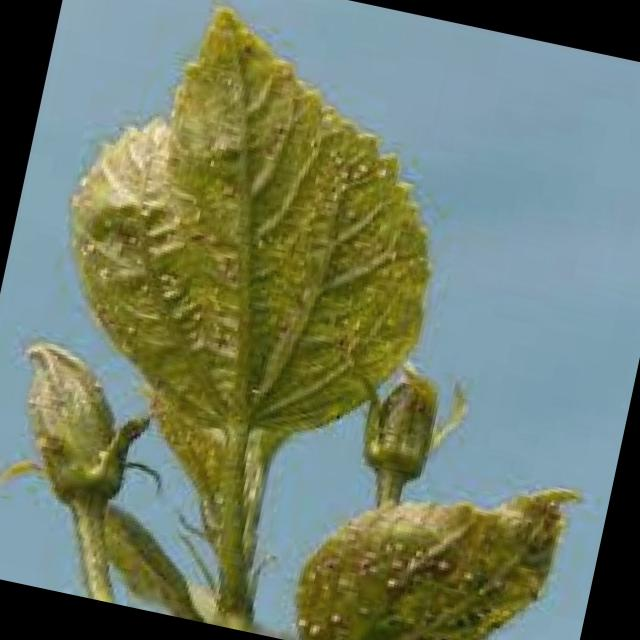aphid: (424, 546, 456, 576), (208, 171, 238, 200), (324, 566, 356, 593), (350, 540, 382, 566), (334, 195, 362, 223), (382, 528, 409, 556), (336, 156, 364, 183), (373, 566, 402, 592), (195, 220, 221, 248), (297, 613, 323, 640), (76, 230, 101, 256), (129, 272, 154, 298), (182, 300, 207, 326), (266, 111, 290, 137), (320, 601, 344, 627), (288, 608, 312, 631), (382, 548, 406, 571), (348, 151, 372, 174), (368, 157, 392, 180), (117, 313, 139, 338), (330, 158, 352, 183), (118, 223, 140, 245), (358, 554, 380, 576), (452, 561, 474, 583), (485, 568, 504, 592)
